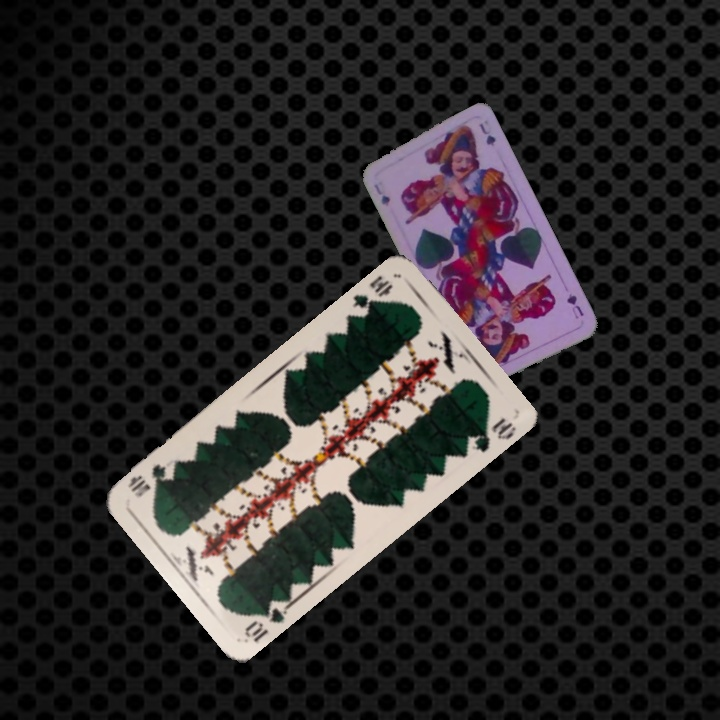G10: (240, 595, 292, 646), (348, 271, 396, 315)
GU: (562, 289, 587, 321), (370, 180, 393, 208)
